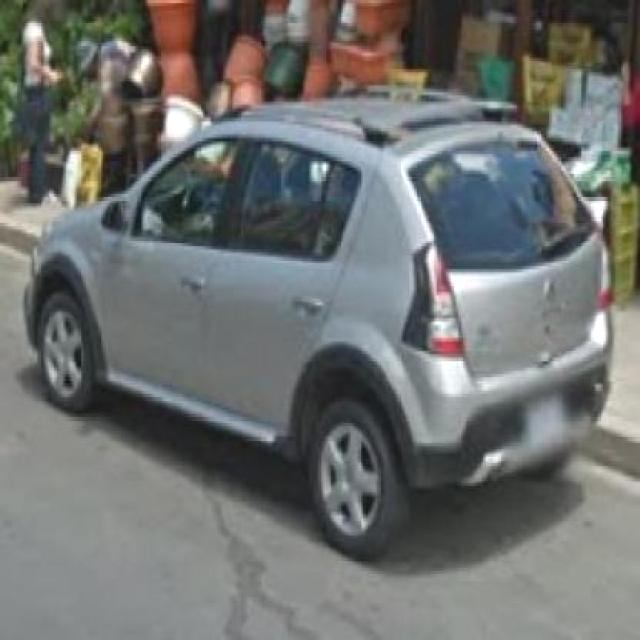car: (26, 103, 614, 548)
